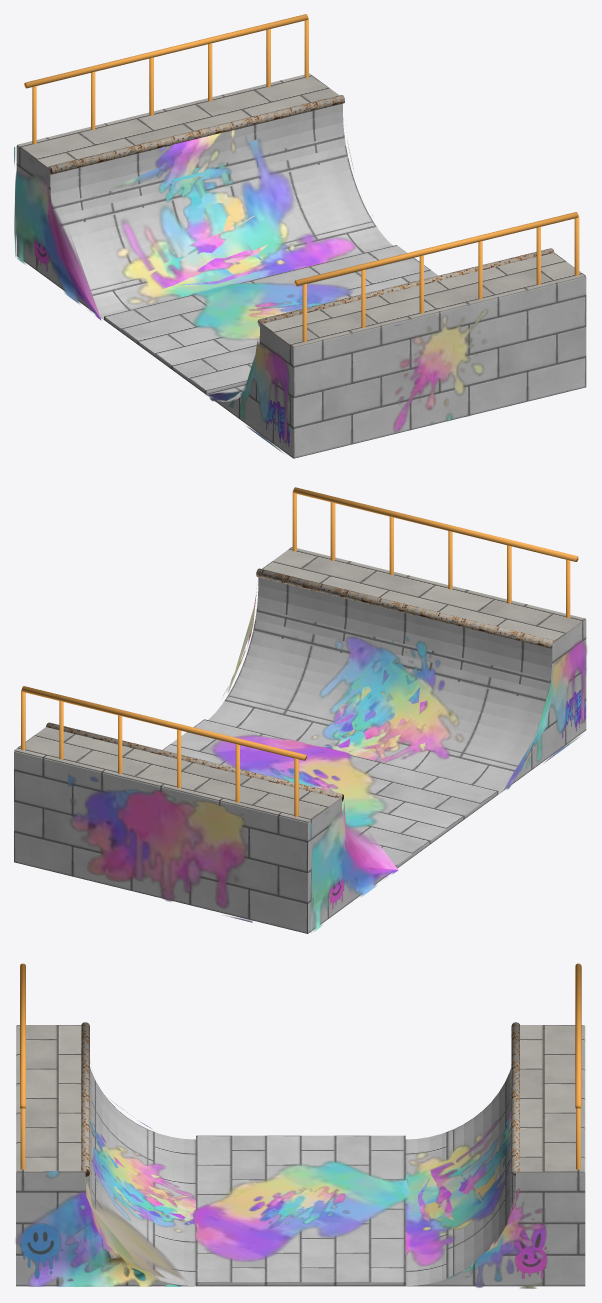
Rendered from Plat_MiniRamp.glb.
The picture shows the model from 3 angles, top to bottom: view 1: azimuth 30°, elevation 25°; view 2: azimuth 150°, elevation 25°; view 3: azimuth 270°, elevation 25°; orthographic projection. The views are drawn at different scales.
Visible parts, largest first — view 1: Plat_MiniRamp_A, Plat_MiniRamp_Paint, Plat_MiniRamp_ADeck, Plat_MiniRamp_ARail, Plat_MiniRamp_ACoping, Plat_MiniRamp_A_GfxL; view 2: Plat_MiniRamp_A, Plat_MiniRamp_Paint, Plat_MiniRamp_ADeck, Plat_MiniRamp_ARail, Plat_MiniRamp_ACoping, Plat_MiniRamp_A_GfxL; view 3: Plat_MiniRamp_A, Plat_MiniRamp_Paint, Plat_MiniRamp_ADeck, Plat_MiniRamp_A_GfxL, Plat_MiniRamp_ACoping, Plat_MiniRamp_ARail.
Part boxes in pixels (box(x1,y1,x2,y2)): Plat_MiniRamp_A: box(16, 103, 586, 458); Plat_MiniRamp_Paint: box(14, 129, 488, 453); Plat_MiniRamp_ADeck: box(17, 73, 585, 348); Plat_MiniRamp_ARail: box(24, 14, 579, 342); Plat_MiniRamp_ACoping: box(48, 95, 554, 327); Plat_MiniRamp_A_GfxL: box(34, 239, 289, 446); Plat_MiniRamp_A: box(14, 577, 586, 933); Plat_MiniRamp_Paint: box(68, 584, 587, 933); Plat_MiniRamp_ADeck: box(14, 547, 585, 822); Plat_MiniRamp_ARail: box(21, 487, 578, 816); Plat_MiniRamp_ACoping: box(46, 568, 554, 801); Plat_MiniRamp_A_GfxL: box(329, 690, 585, 909); Plat_MiniRamp_A: box(16, 1026, 585, 1286); Plat_MiniRamp_Paint: box(15, 1060, 546, 1288); Plat_MiniRamp_ADeck: box(16, 1025, 584, 1172); Plat_MiniRamp_A_GfxL: box(20, 1223, 547, 1278); Plat_MiniRamp_ACoping: box(81, 1022, 519, 1176); Plat_MiniRamp_ARail: box(20, 963, 581, 1169).
Bounding box in the file's own units: 5.08 × 2.88 × 8.27.
5 materials, 4 textured.
